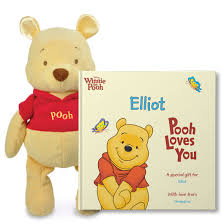Winnie: (13, 13, 93, 127), (108, 116, 152, 177)
